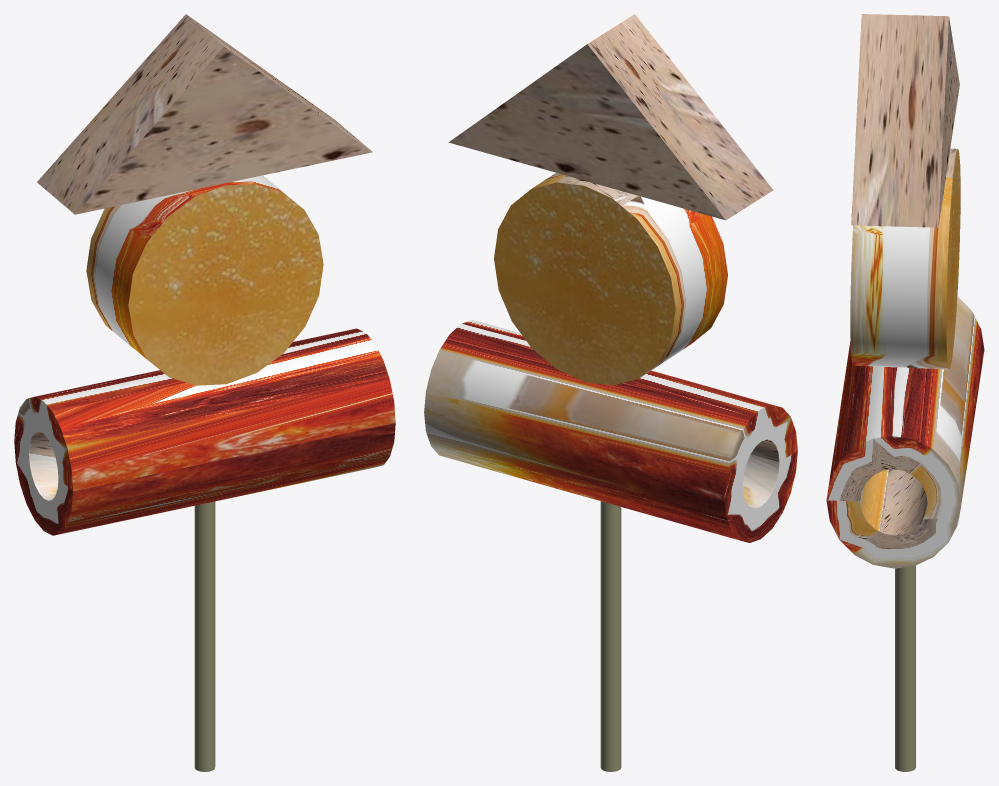
Rendered from Oden.FBX.
3 views of the same model, side by side, from view 1: azimuth 30°, elevation 25°; view 2: azimuth 150°, elevation 25°; view 3: azimuth 270°, elevation 25° (orthographic). The views are drawn at different scales.
Parts seen in each view (by area): view 1: pCylinder3; view 2: pCylinder3; view 3: pCylinder3.
Boxes of the visible parts, x1,y1,x2,y2 form: pCylinder3: [14, 14, 395, 771]; pCylinder3: [424, 14, 797, 771]; pCylinder3: [826, 14, 984, 771].
Size of the model in its own units: 1.51 by 3.33 by 0.634.
2 materials, 1 textured.
